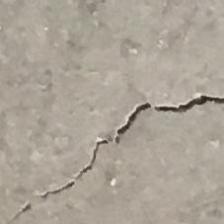Crack: (10, 92, 224, 224)
